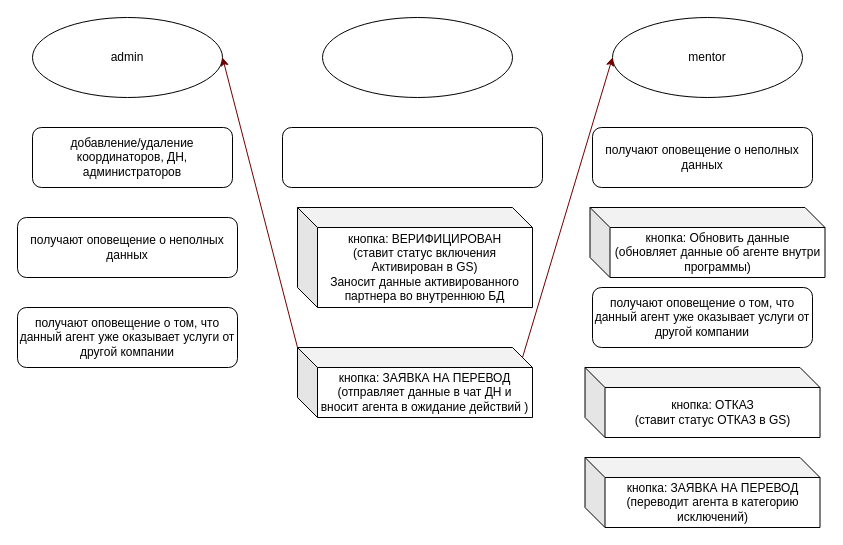
Image size: 843x545. Some labels were removed from this diagram. The centre of each missing label's shape, as x and y in pixels:
"coordinators" goes at pixel 417 57.
"получают оповещение Бота о новом агенте" goes at pixel 412 157.
